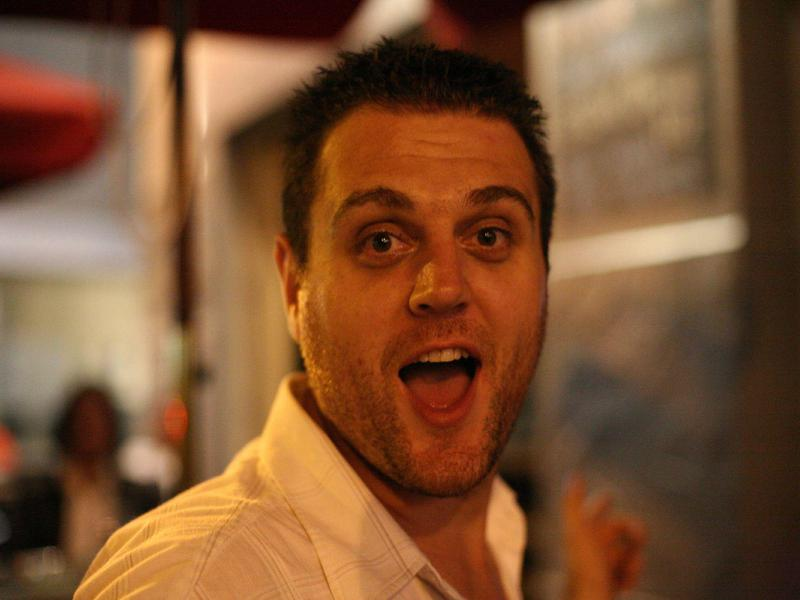person: (69, 43, 561, 600)
